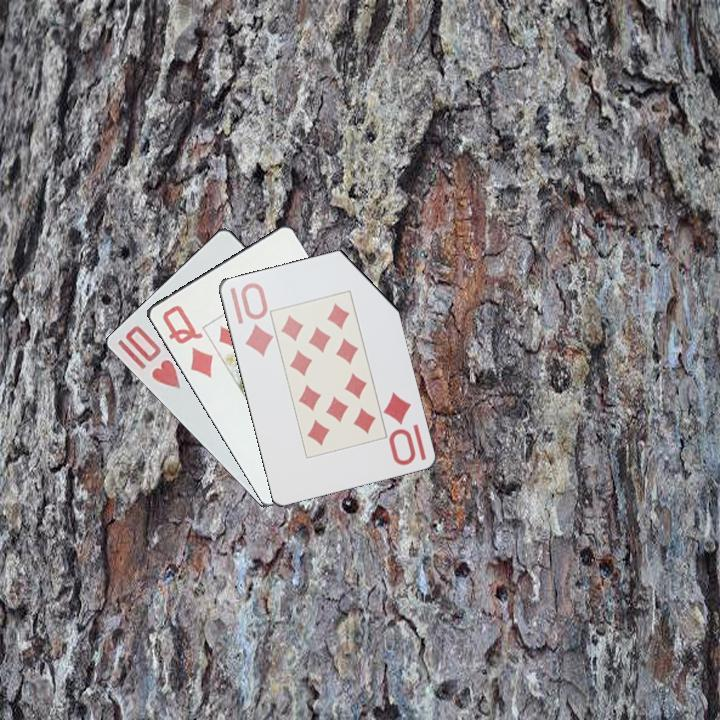Qd: (158, 301, 216, 381)
Td: (380, 388, 429, 468), (226, 279, 274, 360)
Th: (121, 322, 183, 392)
